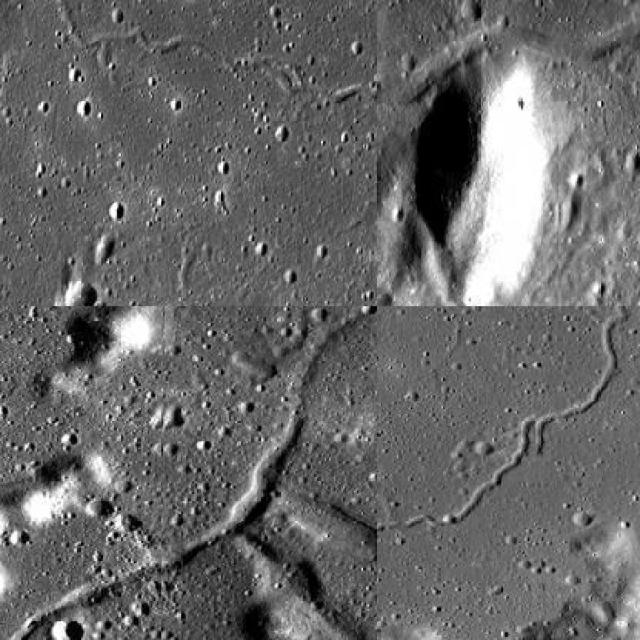rille: (0, 306, 375, 638), (377, 306, 638, 639), (377, 0, 638, 206), (4, 0, 375, 115), (491, 117, 638, 305)
